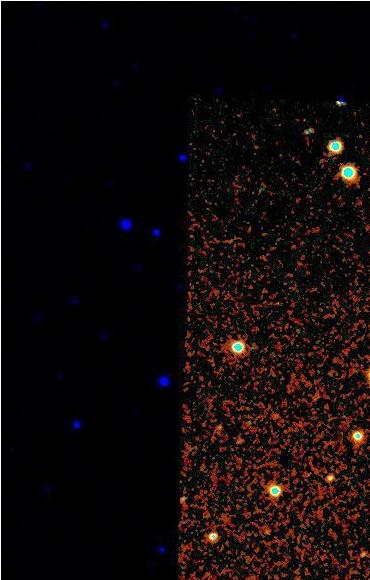star: (256, 517, 286, 547)
